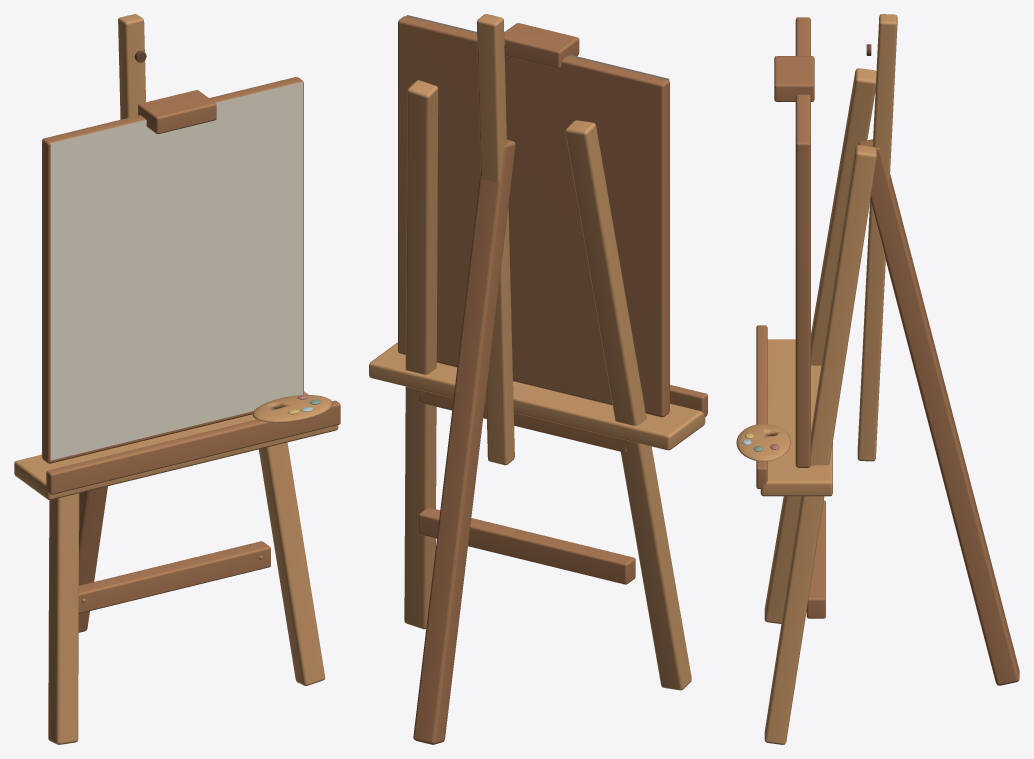
Rendered from easel.glb.
3 renders of one model, left to right at view 1: azimuth 30°, elevation 25°; view 2: azimuth 150°, elevation 25°; view 3: azimuth 270°, elevation 25°, orthographic. The views are drawn at different scales.
Parts seen in each view (by area): view 1: canvas, easel; view 2: easel, canvas; view 3: easel, canvas.
Boxes of the visible parts, x1,y1,x2,y2 form: canvas: (42, 77, 303, 463); easel: (14, 14, 340, 744); easel: (369, 14, 707, 744); canvas: (398, 15, 669, 417); easel: (736, 14, 1019, 744); canvas: (795, 17, 810, 467).
Bounding box in the file's own units: 0.575 × 1.24 × 0.4785.
